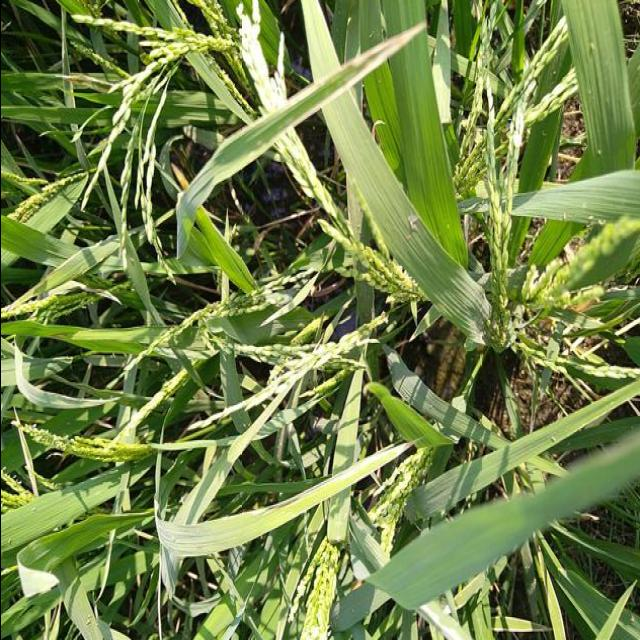Leaf Blight: (187, 20, 427, 220), (248, 442, 411, 517), (417, 601, 473, 640)
